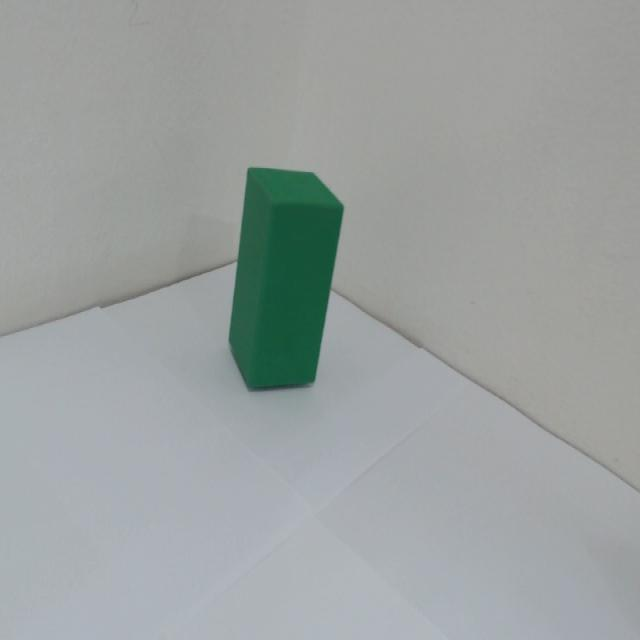cube: (200, 55, 381, 524)
